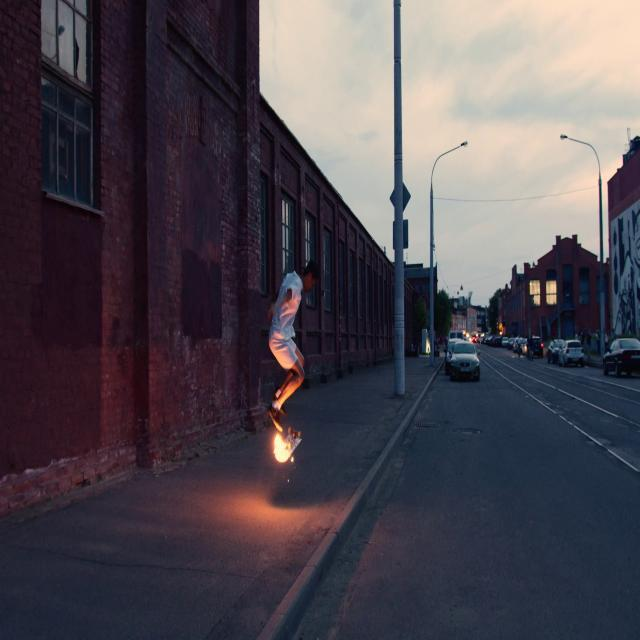Fire: (271, 429, 295, 472)
